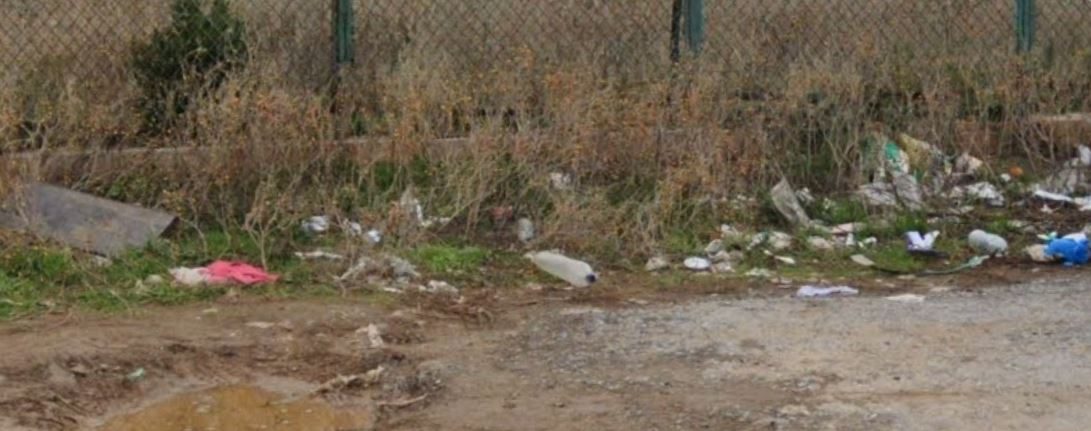trash: (694, 86, 1089, 292), (277, 153, 594, 253), (1, 154, 203, 255), (520, 225, 611, 296), (162, 245, 276, 299)
